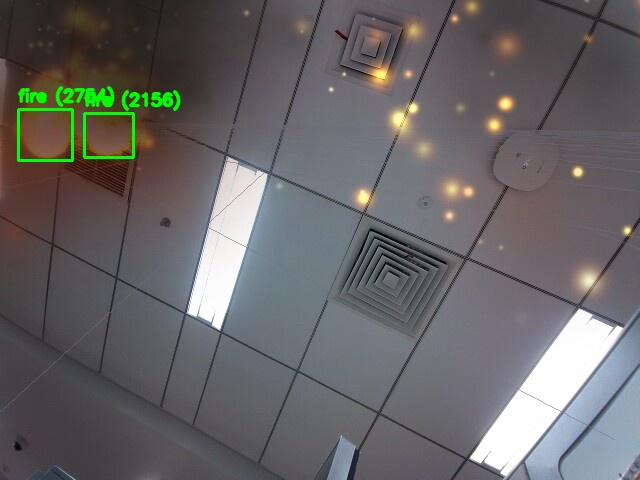fire: (18, 109, 72, 160), (84, 113, 133, 157)
